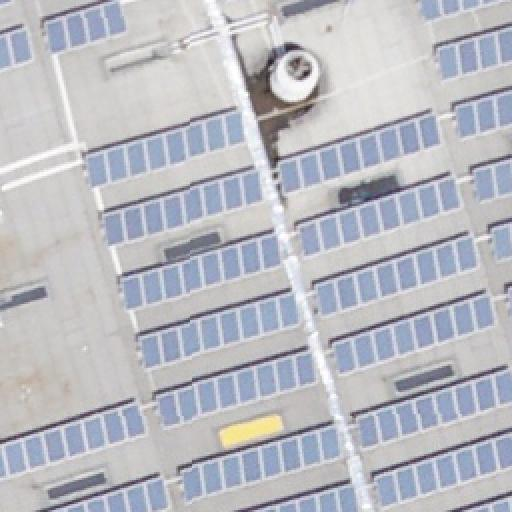solar-panel: (331, 288, 501, 376), (276, 110, 444, 198), (311, 233, 481, 319), (137, 284, 303, 372), (295, 176, 465, 260), (180, 420, 344, 504), (153, 347, 319, 429), (82, 107, 246, 189), (353, 364, 511, 448), (118, 230, 282, 310), (104, 170, 264, 250), (0, 397, 144, 483), (376, 432, 512, 512), (45, 472, 171, 512), (42, 0, 130, 56), (436, 27, 512, 85), (246, 480, 358, 512), (452, 91, 512, 141), (422, 0, 512, 26), (472, 158, 512, 206), (0, 25, 36, 71), (488, 219, 512, 261), (464, 496, 512, 512), (508, 284, 512, 316), (1, 0, 15, 8)
